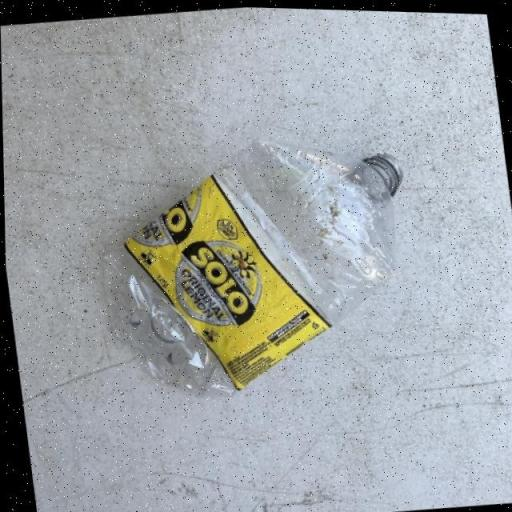plastic: (84, 118, 428, 410)
